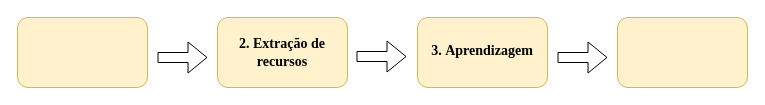
This 765x105 diagram has some shape labels left out. The box of each missing label's shape, as (x1, y1, x2, y2) in pixels:
1. Aquisição de dados e pré-processamento: (16, 16, 148, 88)
4. Extração de recursos: (616, 16, 748, 88)
